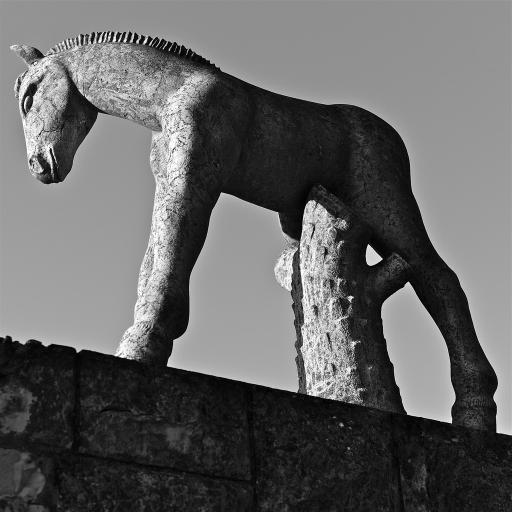horse: (11, 29, 499, 436)
